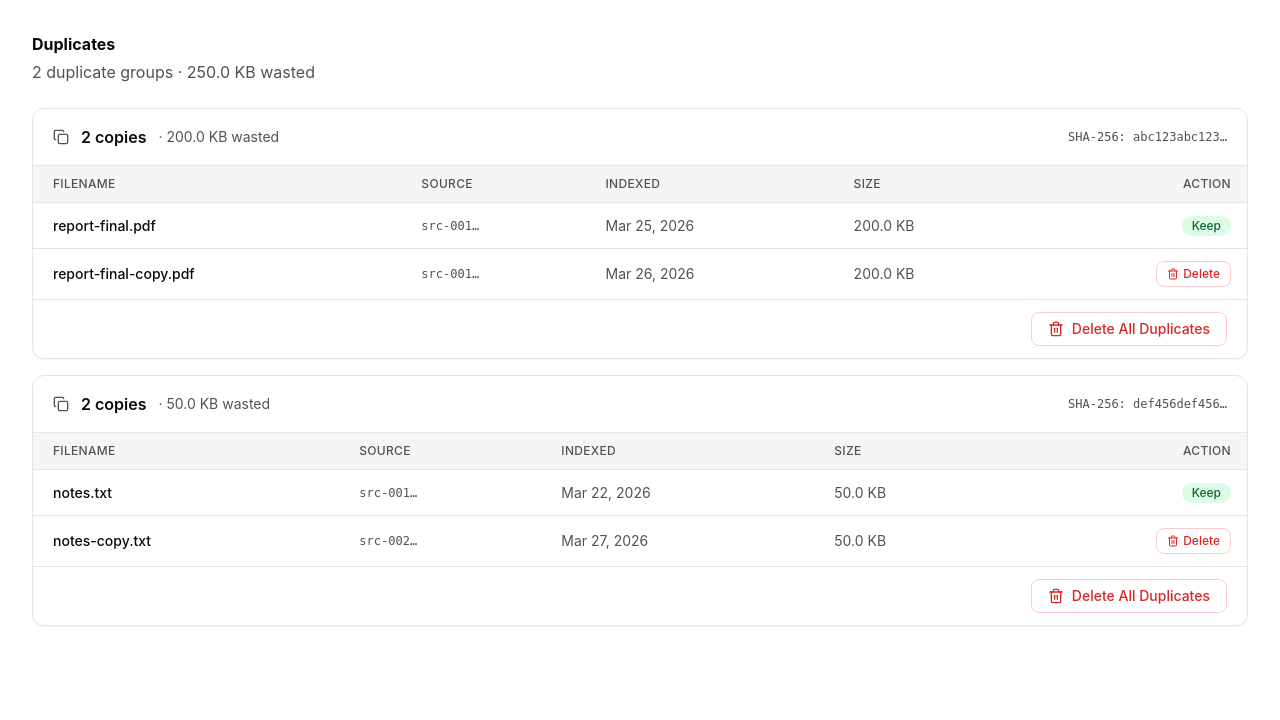
DuplicatesPage › "Delete All Duplicates" deletes all non-canonical files in the group
Click the button with test id "delete-all-duplicates-btn" at (1129, 329), box [1031,312,1227,346]
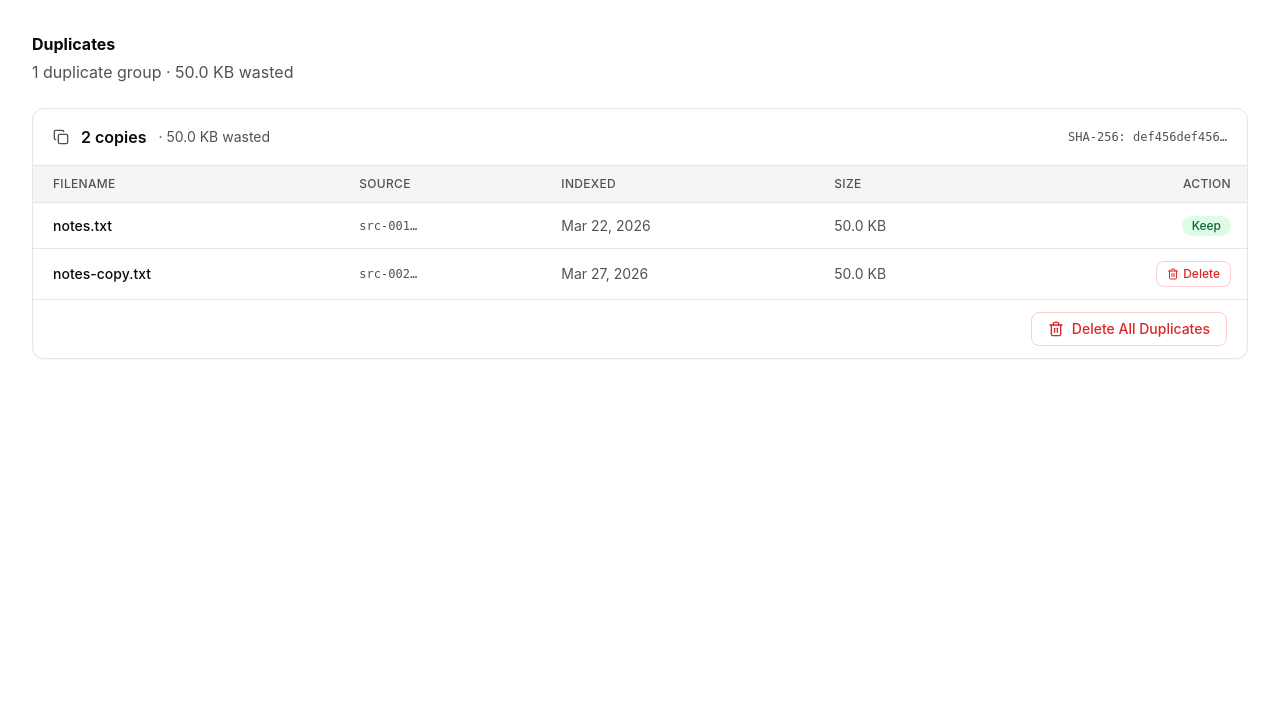
Expected: the text "report-final-copy.pdf" is gone
